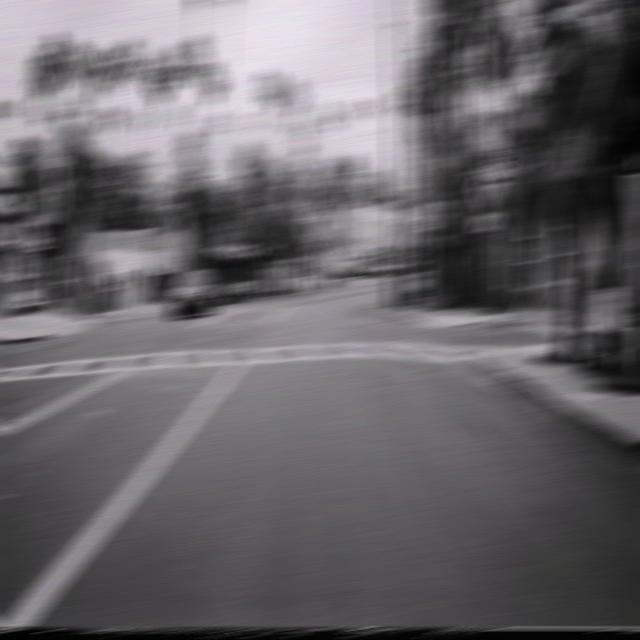pedestrianCrossing: (470, 159, 502, 210)
speedLimit25: (417, 200, 438, 232)
